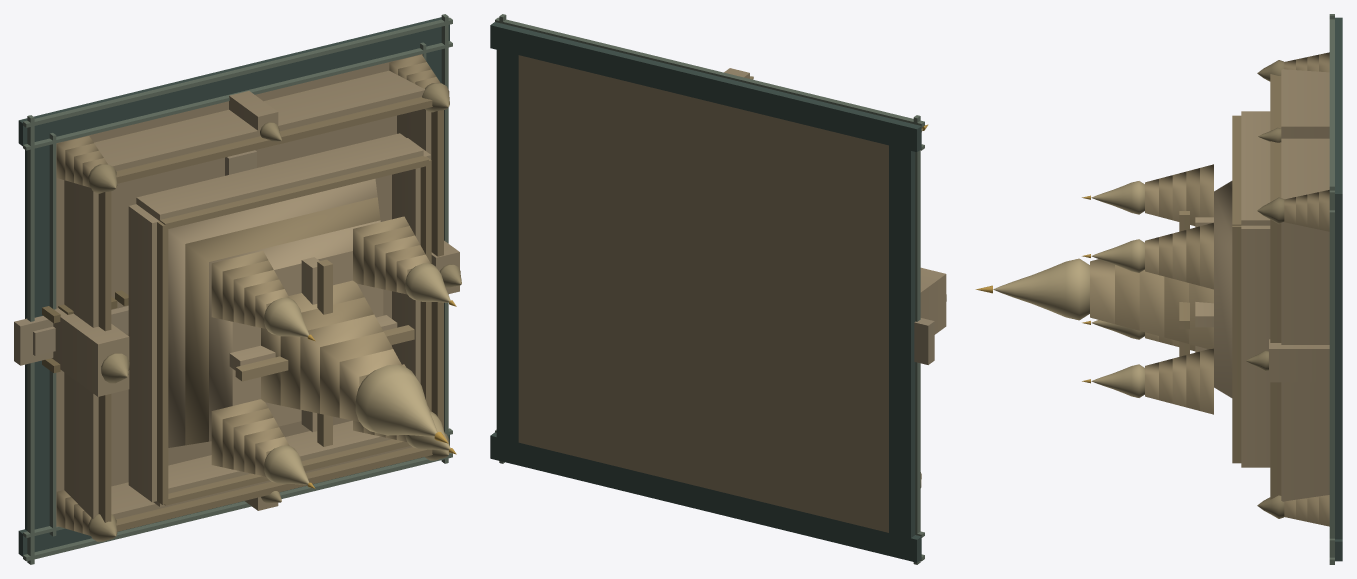
File: angkor-wat.glb
3 renders of one model, left to right at view 1: azimuth 30°, elevation 25°; view 2: azimuth 150°, elevation 25°; view 3: azimuth 270°, elevation 25°, orthographic. The views are drawn at different scales.
Parts seen in each view (by area): view 1: part-sand, part-sandShade, part-tower, part-waterEdge, part-water, part-lotus, part-causeway, part-rail; view 2: part-sand, part-water, part-waterEdge, part-causeway; view 3: part-sand, part-sandShade, part-tower, part-lotus, part-water, part-waterEdge.
Boxes of the visible parts, x1,y1,x2,y2 form: part-sand: (52, 54, 459, 526); part-sandShade: (98, 97, 443, 531); part-tower: (56, 54, 440, 535); part-waterEdge: (23, 14, 452, 564); part-water: (18, 17, 449, 556); part-lotus: (88, 83, 461, 541); part-causeway: (14, 150, 256, 365); part-rail: (42, 290, 128, 373); part-sand: (518, 55, 946, 532); part-water: (490, 22, 921, 562); part-waterEdge: (495, 14, 924, 564); part-causeway: (914, 318, 934, 364); part-sand: (1195, 69, 1329, 501); part-sandShade: (1115, 74, 1281, 499); part-tower: (1090, 52, 1329, 526); part-lotus: (993, 60, 1284, 518); part-water: (1335, 17, 1342, 561); part-waterEdge: (1329, 14, 1334, 564).
Size of the model in its own units: 1.38 by 1.36 by 1.2.
